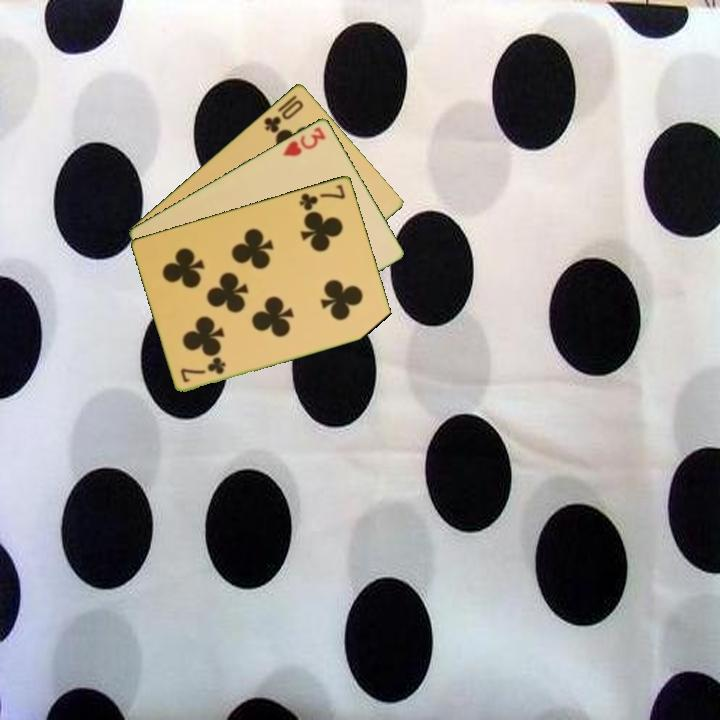10c: (260, 96, 306, 136)
3h: (280, 123, 329, 159)
7c: (296, 181, 348, 213), (177, 354, 229, 385)
